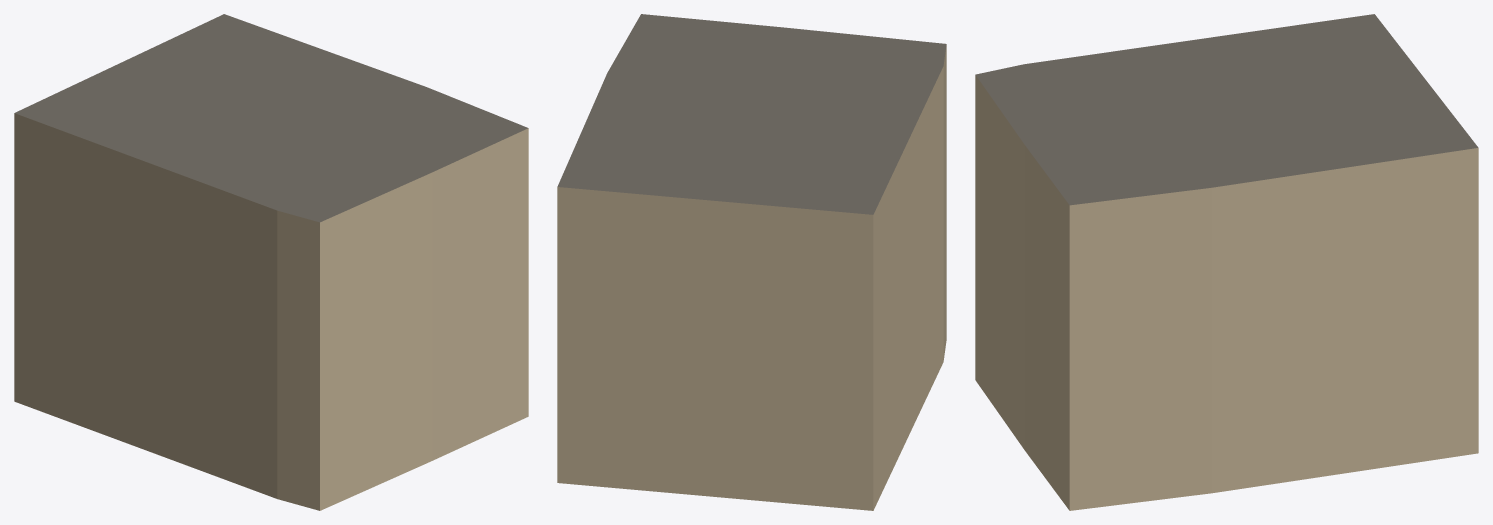
3 views of the same model, side by side, from view 1: azimuth 30°, elevation 25°; view 2: azimuth 150°, elevation 25°; view 3: azimuth 270°, elevation 25° (orthographic). The views are drawn at different scales.
Parts seen in each view (by area): view 1: HP-w900243078; view 2: HP-w900243078; view 3: HP-w900243078.
Boxes of the visible parts, box(x1,y1,x2,y2) form: HP-w900243078: box(14, 14, 528, 510); HP-w900243078: box(557, 14, 946, 510); HP-w900243078: box(975, 14, 1478, 510).
Bounding box in the file's own units: 17.73 × 13.2 × 19.7.
